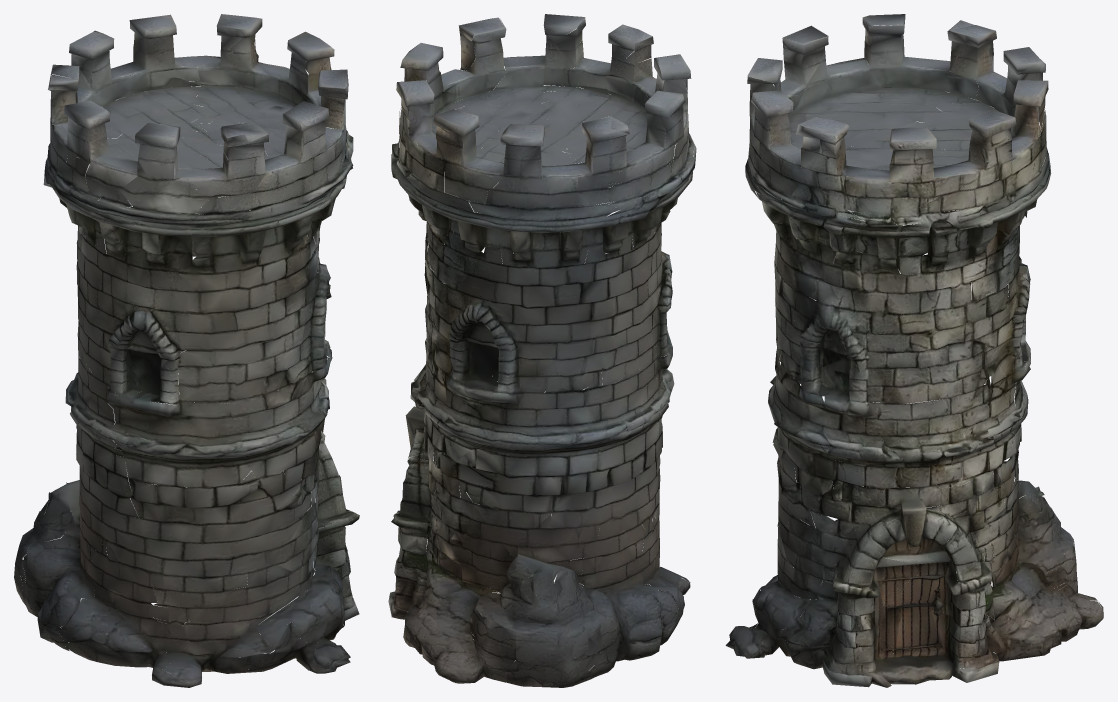
Rendered from torre_piedra.glb.
3 renders of one model, left to right at view 1: azimuth 30°, elevation 25°; view 2: azimuth 150°, elevation 25°; view 3: azimuth 270°, elevation 25°, orthographic. The views are drawn at different scales.
Visible parts, largest first — view 1: Object_4; view 2: Object_4; view 3: Object_4.
Boxes of the visible parts, x1=… form: Object_4: x1=14, y1=14, x2=359, y2=687; Object_4: x1=388, y1=14, x2=696, y2=687; Object_4: x1=725, y1=14, x2=1103, y2=687.
Size of the model in its own units: 5.87 by 11 by 6.9.
1 material, 1 textured.
